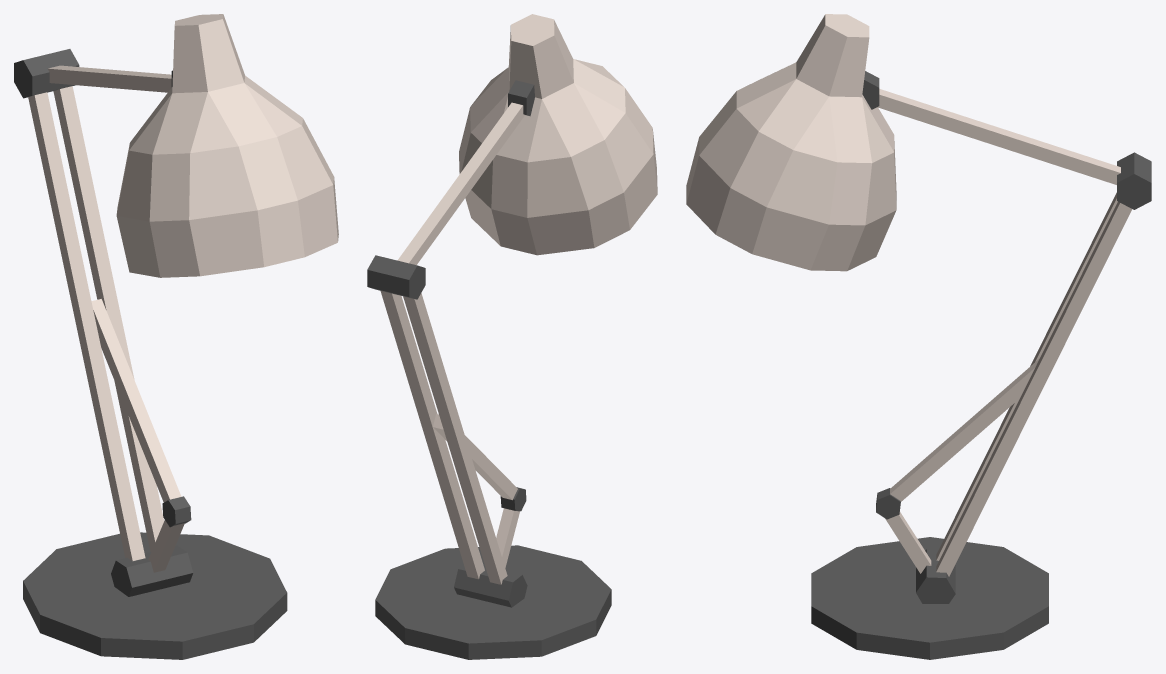
File: Lamp_11.fbx
3 views of the same model, side by side, from view 1: azimuth 30°, elevation 25°; view 2: azimuth 150°, elevation 25°; view 3: azimuth 270°, elevation 25° (orthographic). The views are drawn at different scales.
Visible parts, largest first — view 1: Lamp_11; view 2: Lamp_11; view 3: Lamp_11.
Part boxes in pixels (x1,y1,x2,y2): Lamp_11: (14,14,338,659); Lamp_11: (367,14,657,659); Lamp_11: (686,14,1151,659).
Bounding box in the file's own units: 24.86 × 46.24 × 64.42.
